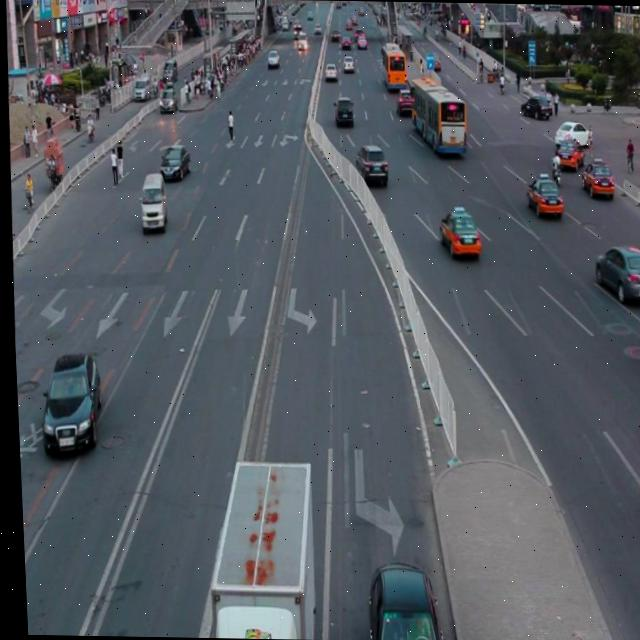bus: (198, 456, 313, 640)
car: (35, 349, 100, 456), (358, 557, 435, 640), (588, 240, 640, 301), (436, 207, 477, 256), (351, 142, 386, 184), (522, 175, 558, 212), (578, 158, 611, 198), (156, 144, 189, 181)
truck: (136, 170, 166, 232)
